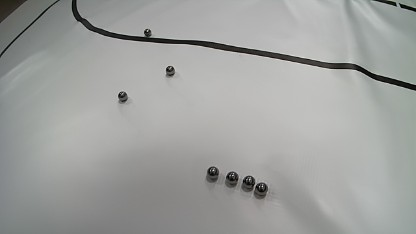ironball: (242, 175, 255, 189), (225, 171, 238, 184), (255, 182, 268, 195), (206, 166, 219, 179), (117, 91, 128, 102), (165, 65, 175, 76), (143, 28, 152, 37)
